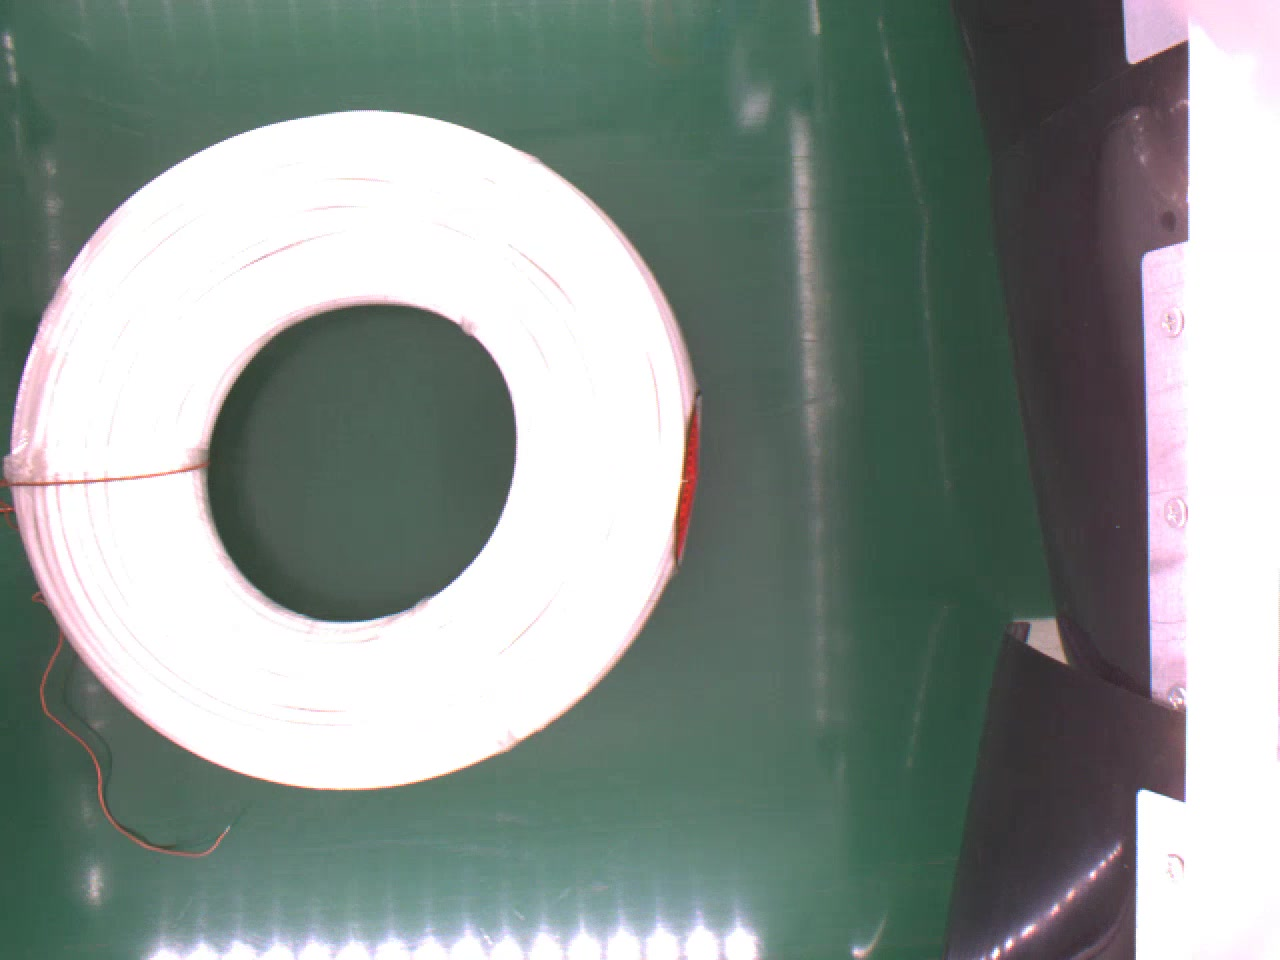white: (5, 105, 707, 791)
